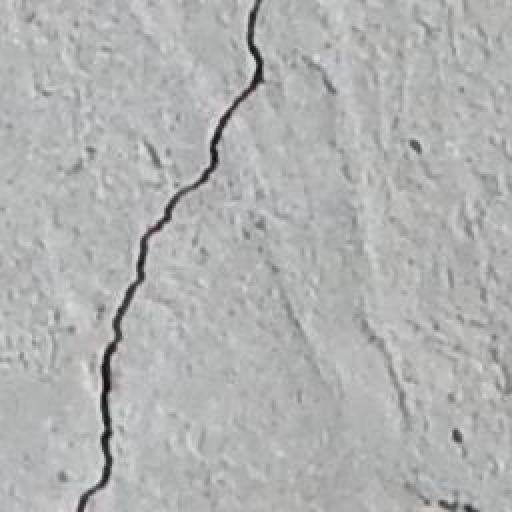spalling: (62, 3, 284, 512)
